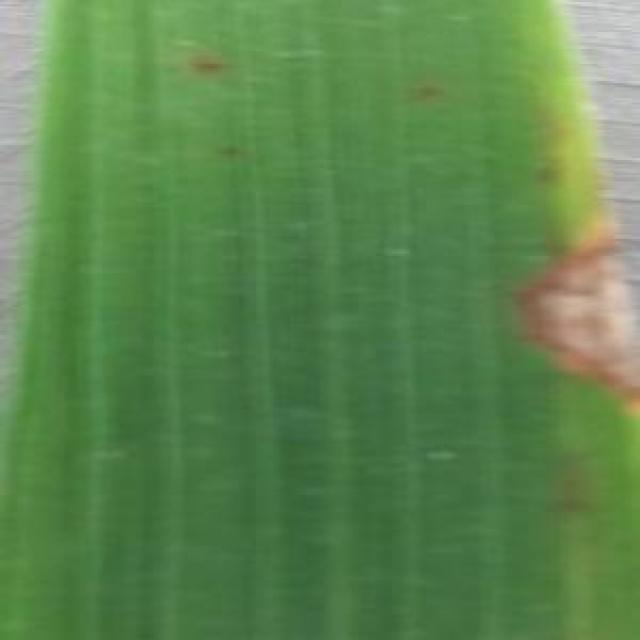Brown_Spot: (512, 218, 640, 404), (192, 45, 225, 80), (411, 84, 445, 111)
